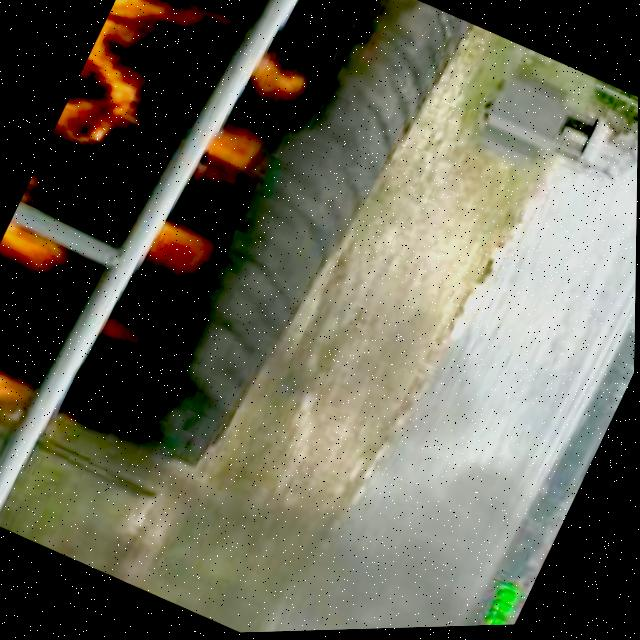Fire: (49, 0, 269, 189), (98, 198, 229, 372), (198, 40, 296, 176), (0, 199, 109, 300), (0, 343, 45, 446)
Smoke: (149, 264, 584, 636)
